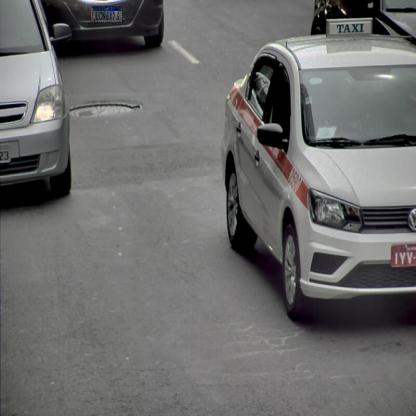PlacaM: (93, 6, 122, 23)
